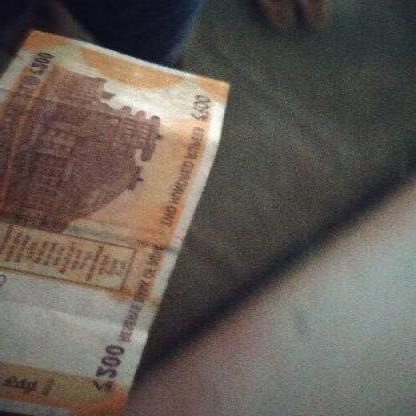New200Back: (0, 29, 235, 415)
